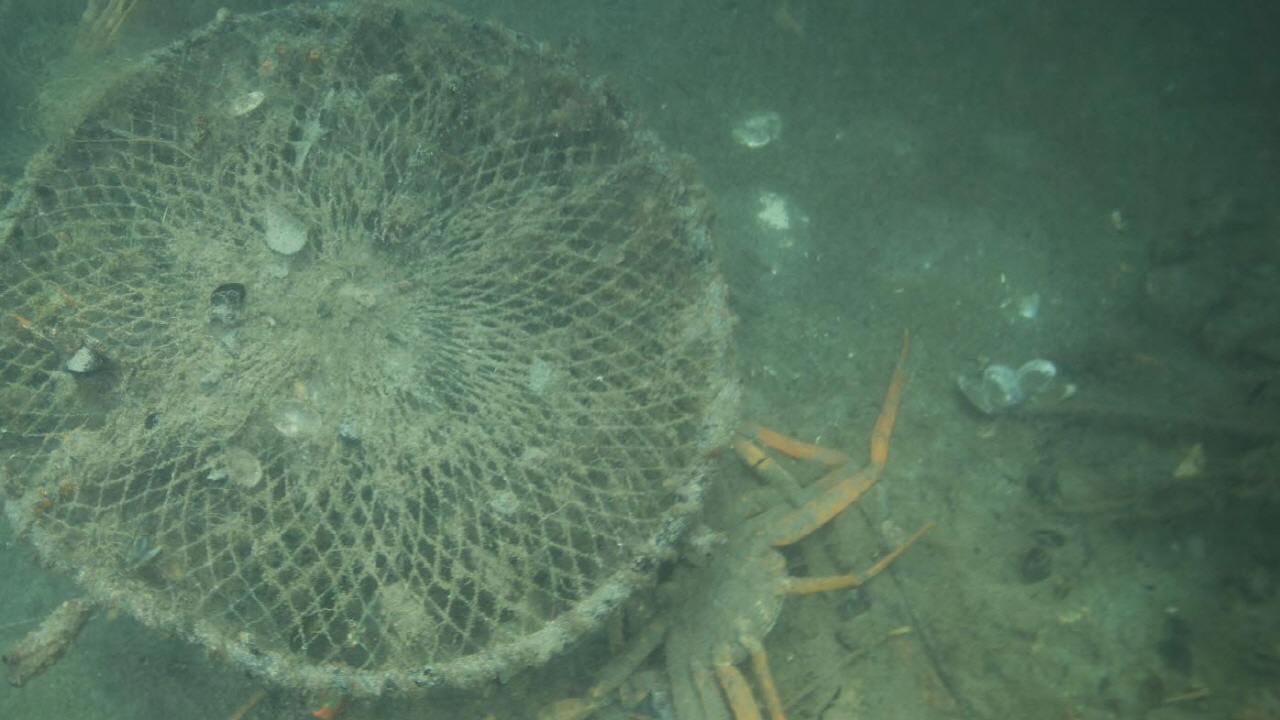circular fish trap: (0, 0, 731, 695)
